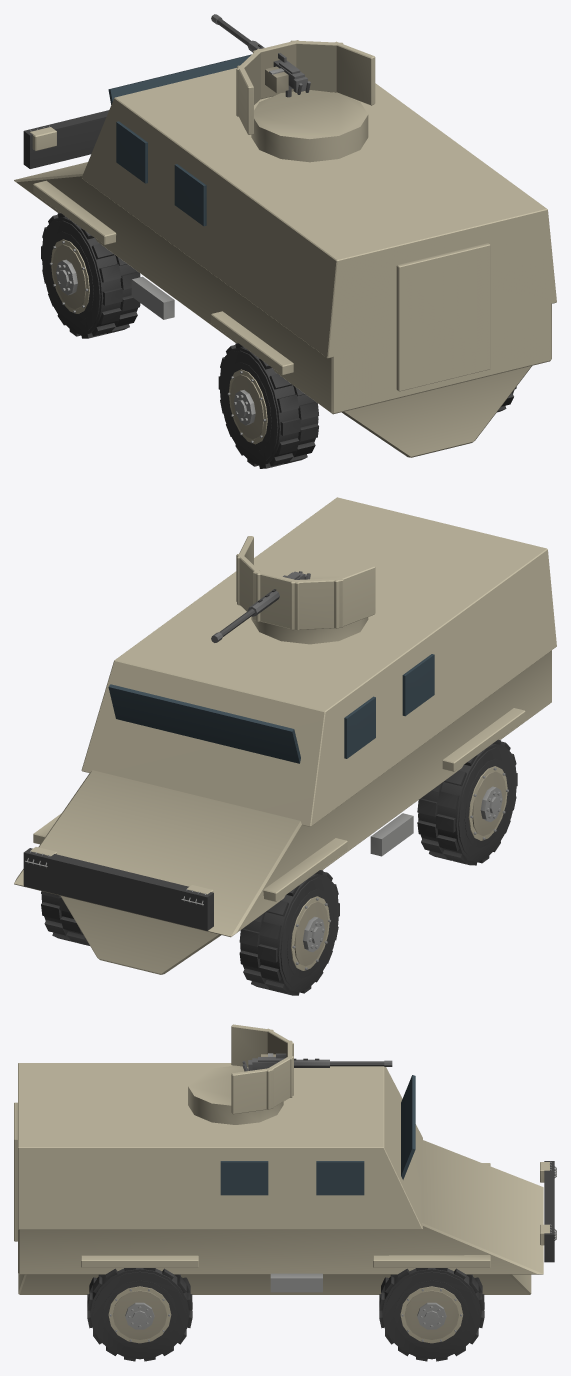
File: usa_mrap_maxx.glb
3 views of the same model, one above another, from view 1: azimuth 30°, elevation 25°; view 2: azimuth 150°, elevation 25°; view 3: azimuth 270°, elevation 25° (orthographic). The views are drawn at different scales.
Parts seen in each view (by area): view 1: body, turret, wheel_2, wheel_0, barrel; view 2: body, turret, wheel_2, wheel_0, wheel_1, barrel; view 3: body, wheel_1, wheel_3, turret, barrel.
Boxes of the visible parts, x1,y1,x2,y2 form: body: (14,54,556,457); turret: (236,40,375,162); wheel_2: (218,343,318,468); wheel_0: (41,213,140,338); barrel: (211,14,310,97); body: (14,497,556,974); turret: (236,536,375,644); wheel_2: (417,739,517,865); wheel_0: (239,870,339,995); wheel_1: (41,891,89,945); barrel: (211,571,310,642); body: (14,1063,556,1294); wheel_1: (379,1268,484,1361); wheel_3: (87,1268,192,1361); turret: (188,1024,293,1124); barrel: (242,1053,392,1071).
Bounding box in the file's own units: 2.78 × 3.35 × 6.23.
